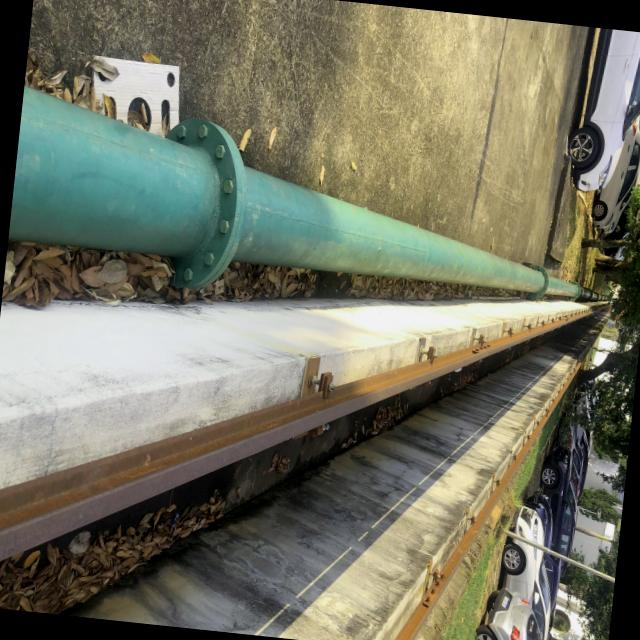gas: (6, 82, 568, 300)
